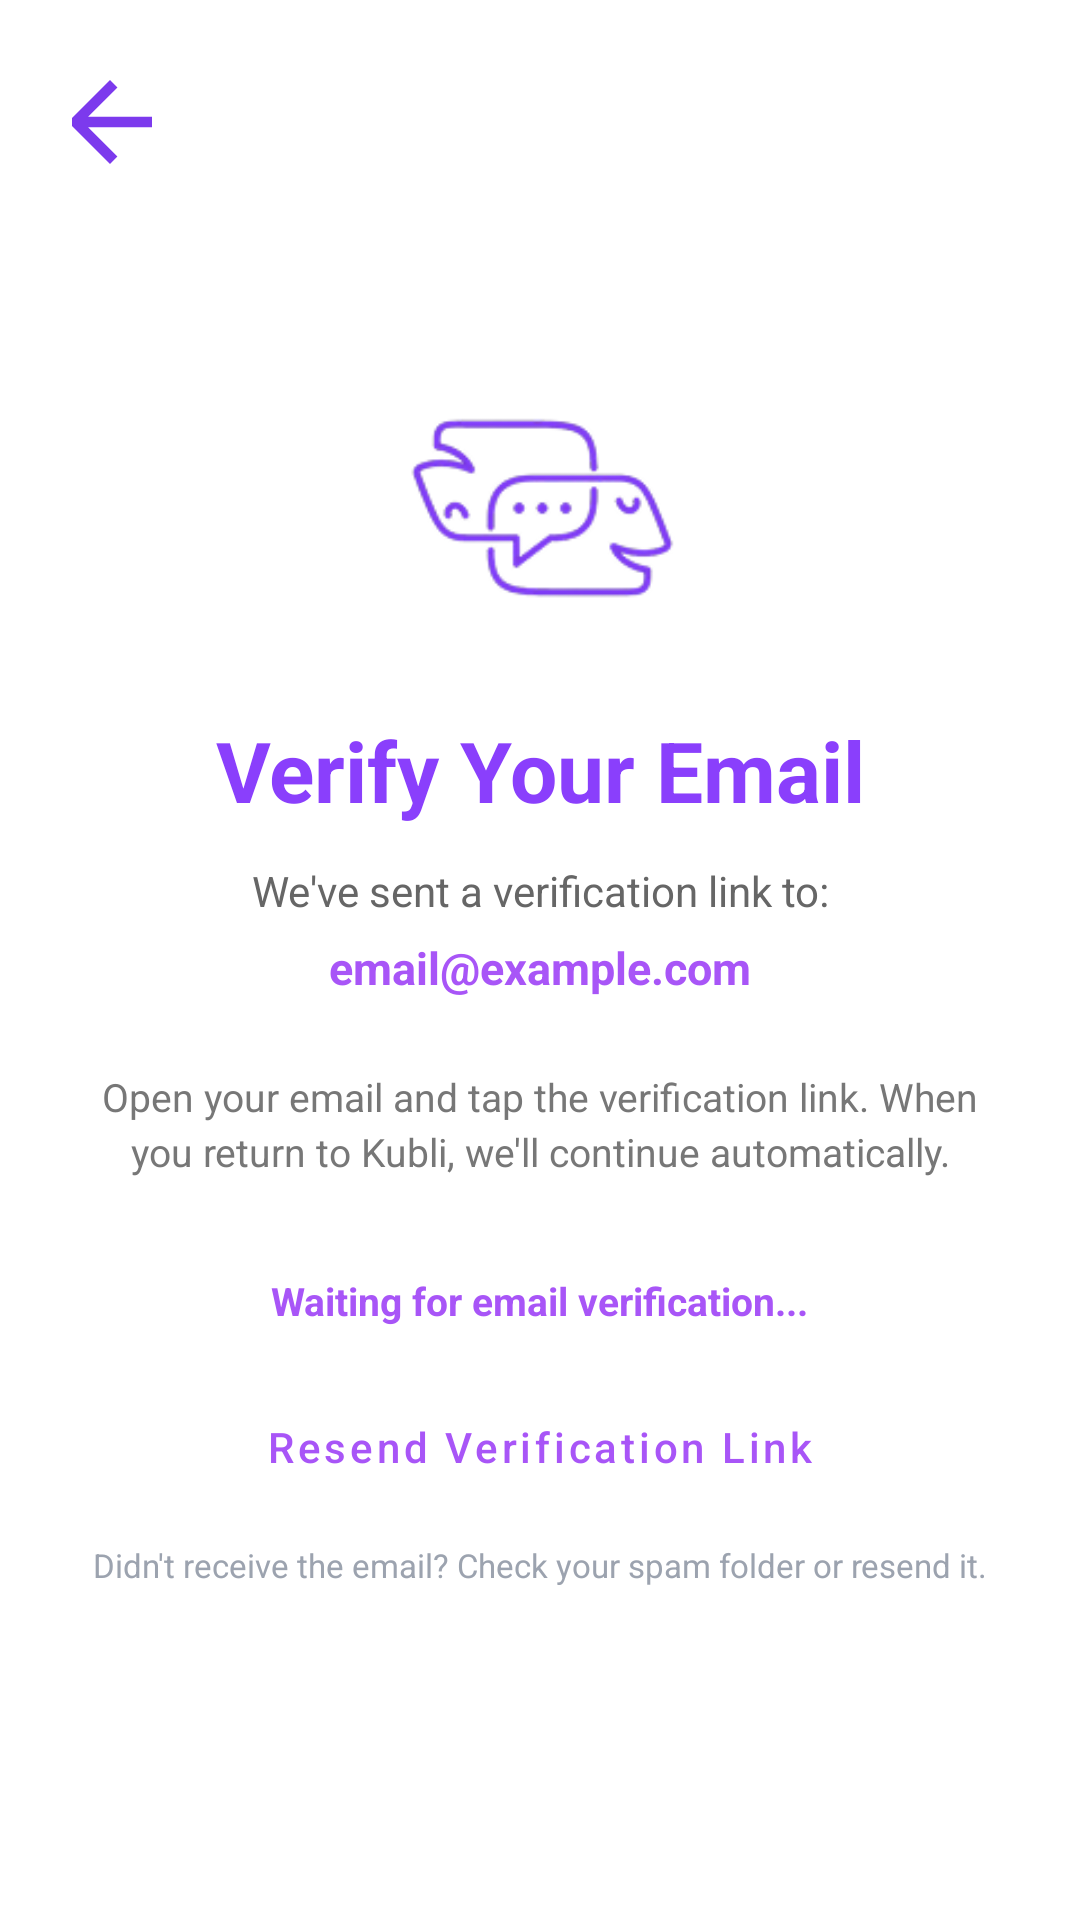

Named icons in this screenshot (1080×1920) and their centers, (x,y):
Back: (112,122)
